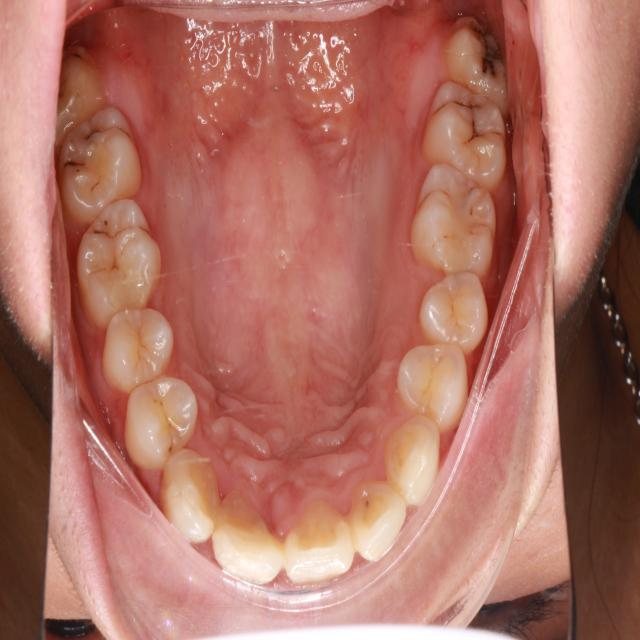tooth: (70, 195, 176, 351), (416, 69, 525, 206), (55, 100, 154, 240), (407, 152, 504, 283), (115, 358, 207, 485), (212, 474, 292, 603), (150, 427, 225, 560), (373, 398, 452, 519), (389, 335, 482, 436), (414, 256, 502, 361), (275, 495, 367, 593), (436, 9, 518, 116), (339, 468, 420, 569), (101, 293, 181, 392), (49, 46, 119, 152)
